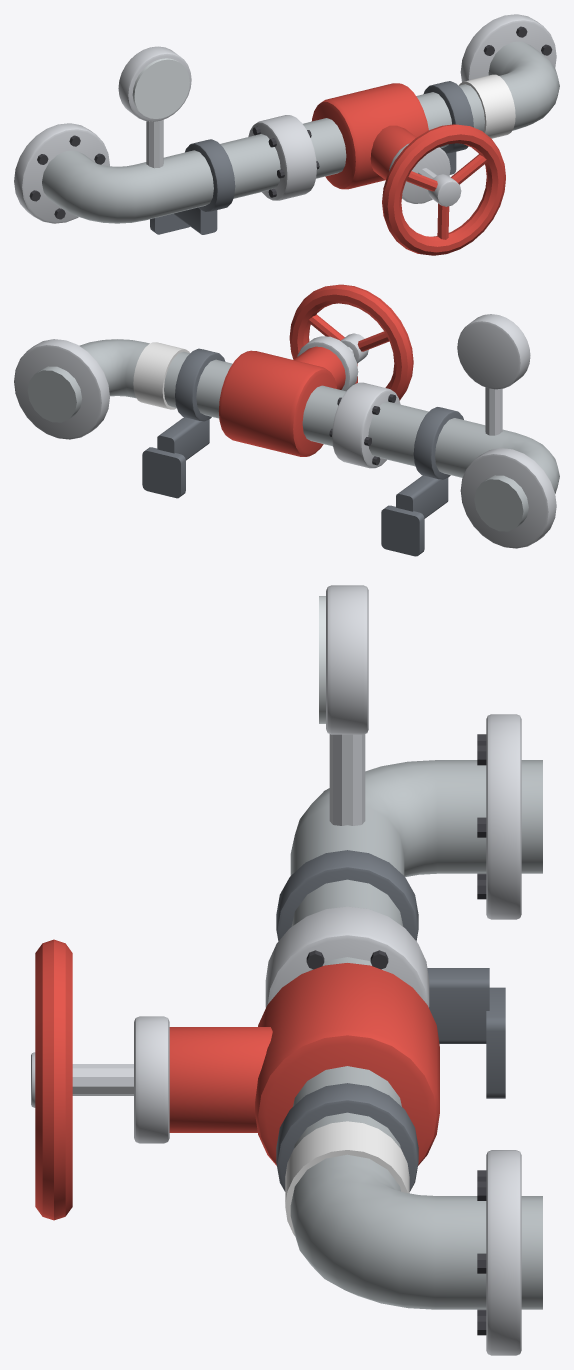
File: SM_IncLeak.fbx
The picture shows the model from 3 angles, top to bottom: view 1: azimuth 30°, elevation 25°; view 2: azimuth 150°, elevation 25°; view 3: azimuth 270°, elevation 25°; orthographic projection. The views are drawn at different scales.
Visible parts, largest first — view 1: LeakPipe, ValveWheel; view 2: LeakPipe, ValveWheel; view 3: LeakPipe, ValveWheel.
Part boxes in pixels (x1=…): LeakPipe: x1=14, y1=14, x2=559, y2=234; ValveWheel: x1=382, y1=124, x2=505, y2=255; LeakPipe: x1=14, y1=314, x2=559, y2=556; ValveWheel: x1=289, y1=284, x2=413, y2=400; LeakPipe: x1=72, y1=585, x2=542, y2=1355; ValveWheel: x1=31, y1=939, x2=72, y2=1220.
Size of the model in its own units: 0.696 by 0.272 by 0.288.
